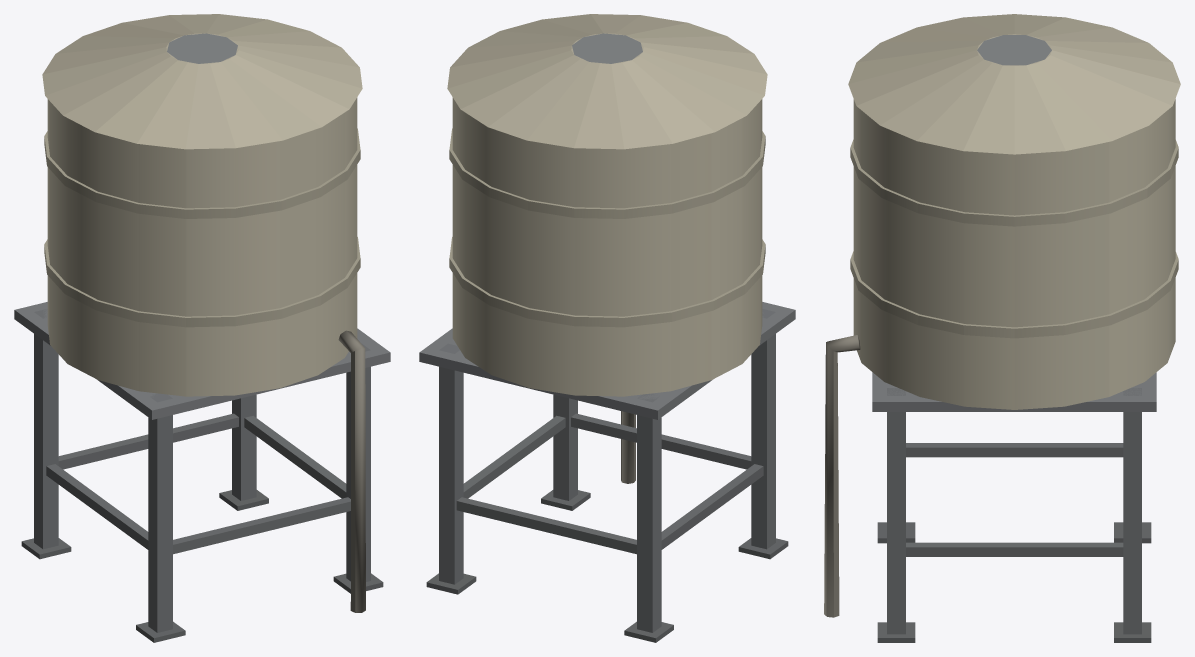
File: prop_water_tank_01.glb
3 views of the same model, side by side, from view 1: azimuth 30°, elevation 25°; view 2: azimuth 150°, elevation 25°; view 3: azimuth 270°, elevation 25° (orthographic). The views are drawn at different scales.
Parts seen in each view (by area): view 1: prop_water_tank_01; view 2: prop_water_tank_01; view 3: prop_water_tank_01.
Boxes of the visible parts, left/top/right/bottom form: prop_water_tank_01: left=14, top=14, right=390, bottom=642; prop_water_tank_01: left=419, top=14, right=795, bottom=642; prop_water_tank_01: left=824, top=14, right=1180, bottom=642.
Bounding box in the file's own units: 1.24 × 2.2 × 1.33.
